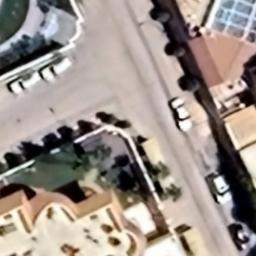SUV: (207, 168, 234, 207), (39, 56, 74, 82), (6, 71, 42, 94)
sedan: (167, 94, 194, 134), (226, 219, 250, 251)
